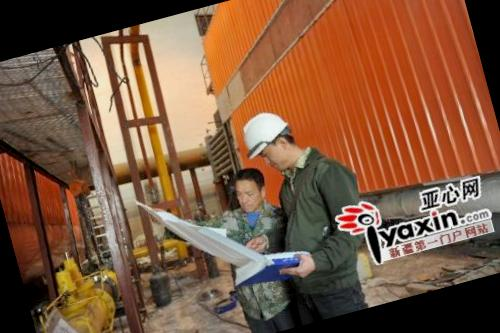no_helmet: (224, 161, 276, 217)
